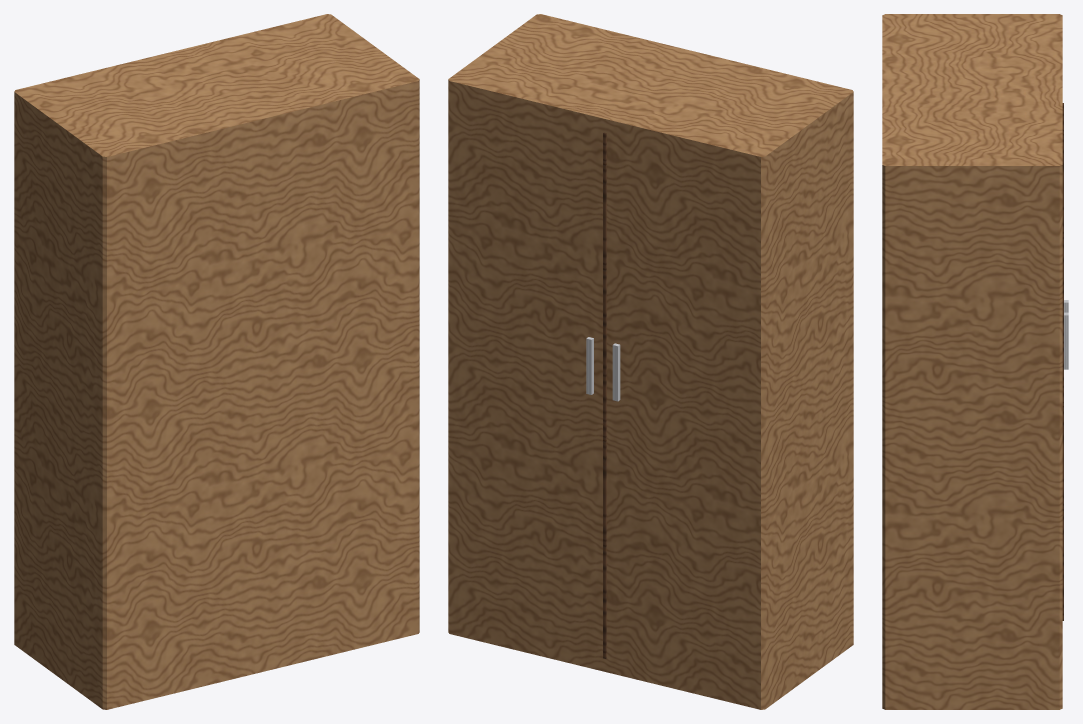
The model's file is wardrobe.obj.
The picture shows the model from 3 angles, left to right: view 1: azimuth 30°, elevation 25°; view 2: azimuth 150°, elevation 25°; view 3: azimuth 270°, elevation 25°; orthographic projection.
Parts seen in each view (by area): view 1: wardrobe; view 2: wardrobe; view 3: wardrobe.
Boxes of the visible parts, <box> form: wardrobe: <box>14,14,419,709</box>; wardrobe: <box>448,14,853,709</box>; wardrobe: <box>882,14,1068,709</box>.
Size of the model in its own units: 1.2 by 2 by 0.62.
Materials: 3 (3 with a texture image).
